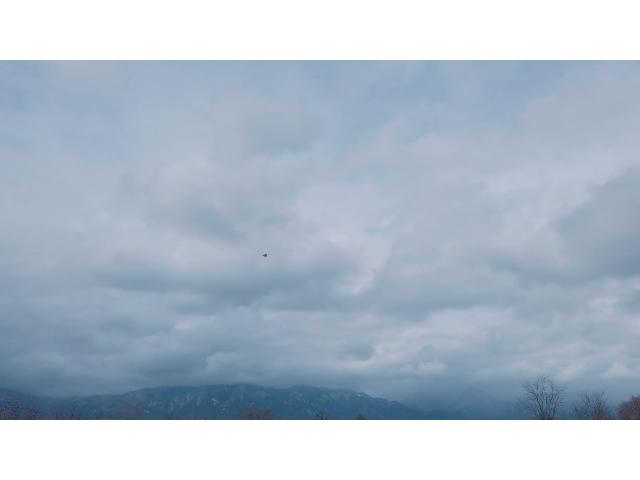Anti-Drone: (258, 250, 270, 260)
